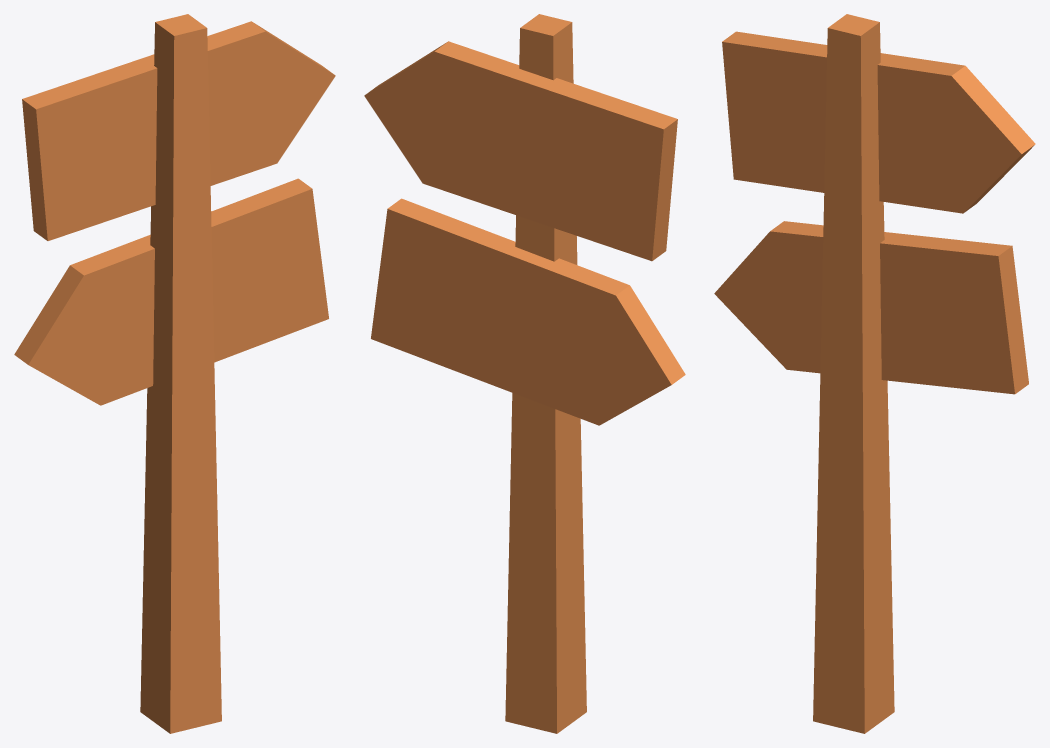
The model's file is signpost.dae.
3 renders of one model, left to right at view 1: azimuth 30°, elevation 25°; view 2: azimuth 150°, elevation 25°; view 3: azimuth 330°, elevation 25°, orthographic.
Visible parts, largest first — view 1: signpost; view 2: signpost; view 3: signpost.
Part boxes in pixels (box(x1,y1,x2,y2)): signpost: box(14, 14, 335, 733); signpost: box(364, 14, 685, 733); signpost: box(714, 14, 1035, 733).
Size of the model in its own units: 0.2141 by 0.4601 by 0.043.
